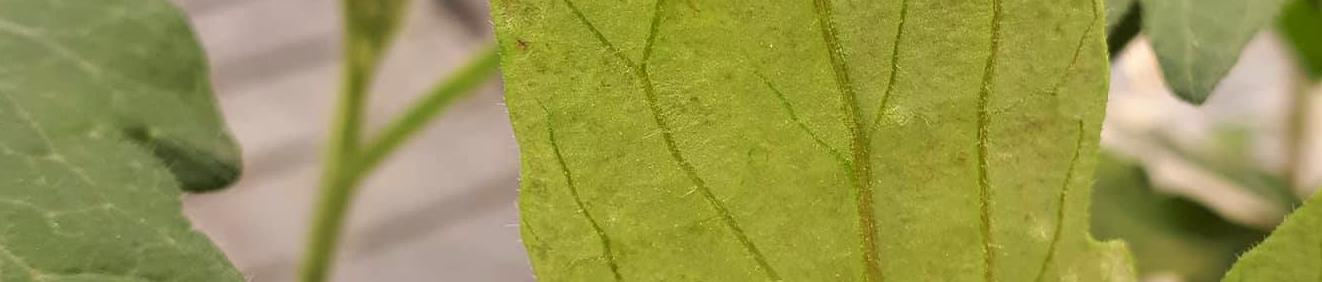Tomato mold leaf: (455, 0, 1176, 282)
